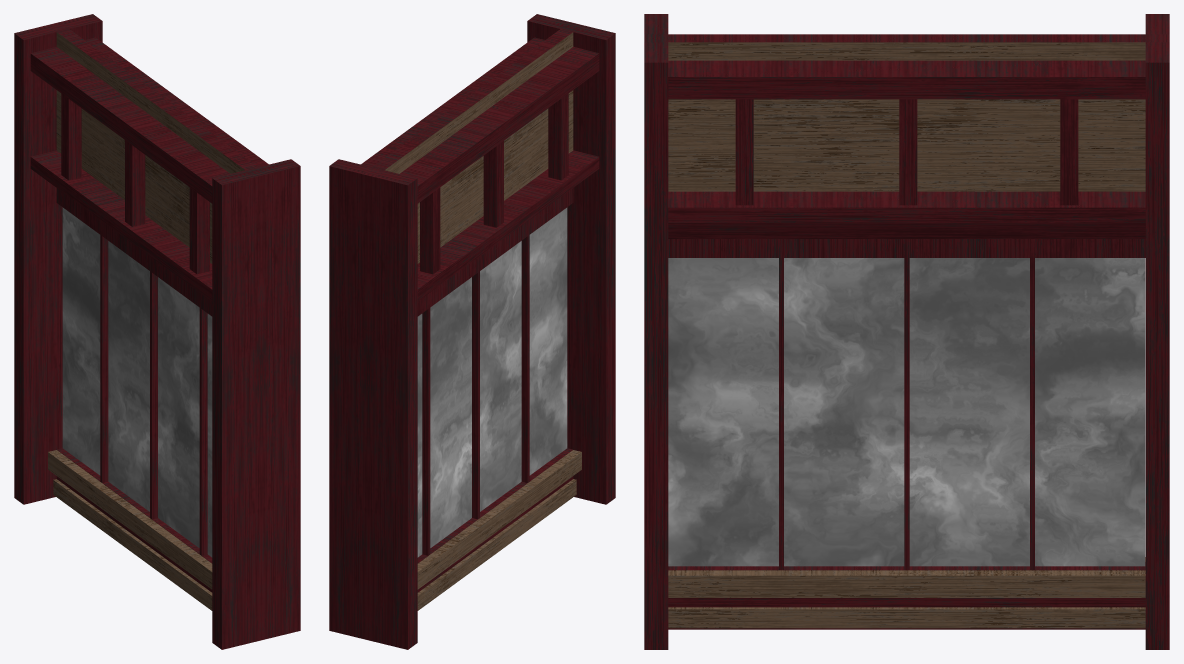
The model's file is SM_modules_03.fbx.
3 views of the same model, side by side, from view 1: azimuth 30°, elevation 25°; view 2: azimuth 150°, elevation 25°; view 3: azimuth 270°, elevation 25° (orthographic). The views are drawn at different scales.
Visible parts, largest first — view 1: SM_modules_03; view 2: SM_modules_03; view 3: SM_modules_03.
Part boxes in pixels (<box>): SM_modules_03: <box>14,14,300,649</box>; SM_modules_03: <box>329,14,615,649</box>; SM_modules_03: <box>644,14,1169,649</box>.
Size of the model in its own units: 65.65 by 300 by 370.
Materials: 3 (3 with a texture image).
